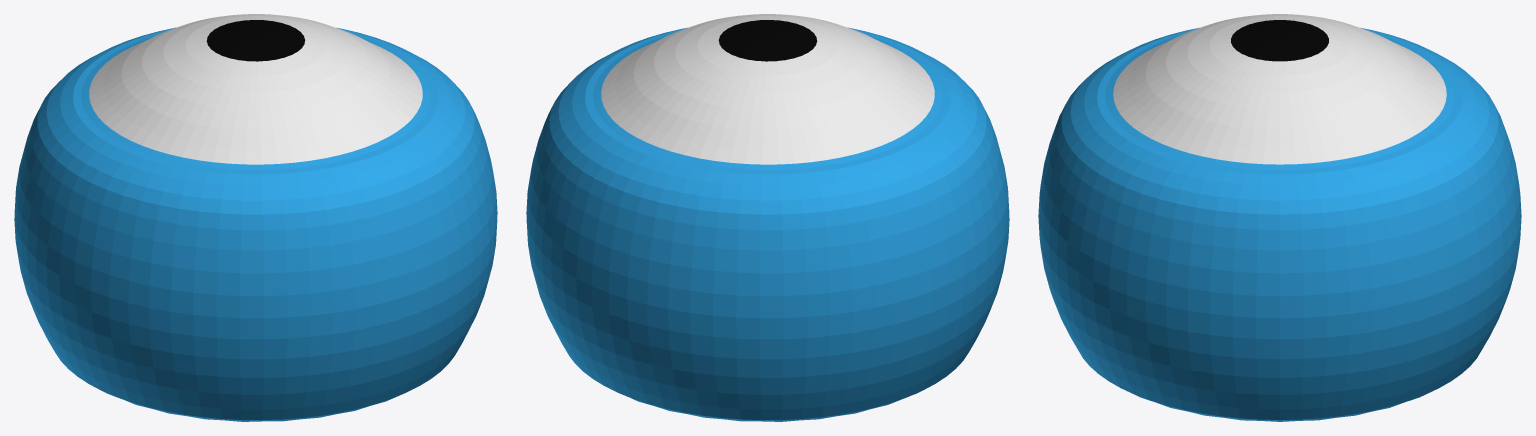
The model's file is eye1.fbx.
The picture shows the model from 3 angles, left to right: view 1: azimuth 30°, elevation 25°; view 2: azimuth 150°, elevation 25°; view 3: azimuth 270°, elevation 25°; orthographic projection.
Visible parts, largest first — view 1: 구체; view 2: 구체; view 3: 구체.
Part boxes in pixels (<box>): 구체: <box>14,14,497,421</box>; 구체: <box>526,14,1009,421</box>; 구체: <box>1038,14,1521,421</box>.
Bounding box in the file's own units: 197 × 137 × 197.
